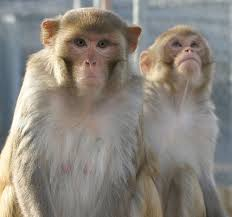monkey: (10, 5, 137, 209), (124, 21, 215, 191)
